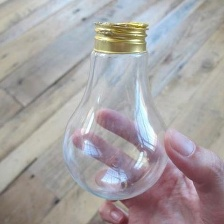light_bulb: (57, 14, 175, 208)
